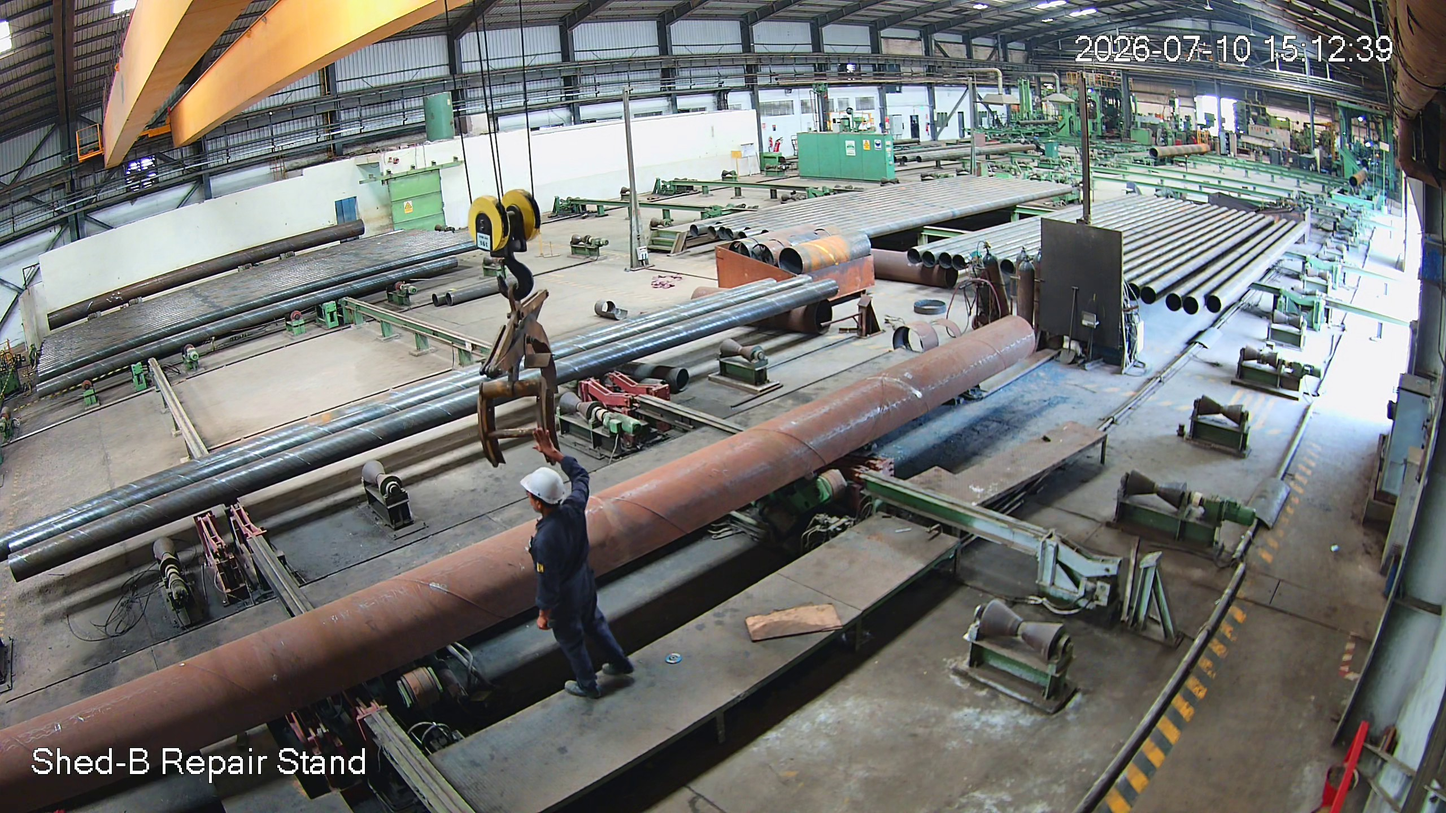Helmet: (510, 455, 586, 540)
Person: (496, 458, 645, 707)
